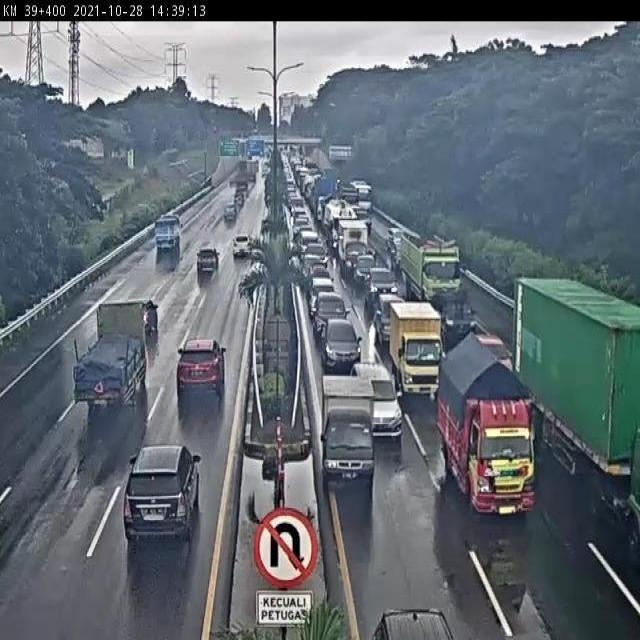car: (119, 431, 212, 569), (167, 321, 236, 412), (361, 604, 478, 640)
mid truck: (49, 287, 158, 428)
small truck: (444, 333, 538, 524)
